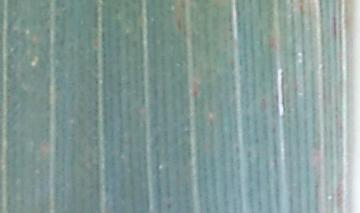tarspot: (330, 12, 339, 41), (189, 87, 199, 98), (178, 1, 187, 13), (113, 6, 121, 17), (233, 143, 241, 154), (164, 201, 173, 209), (225, 25, 234, 33), (253, 136, 261, 144)
